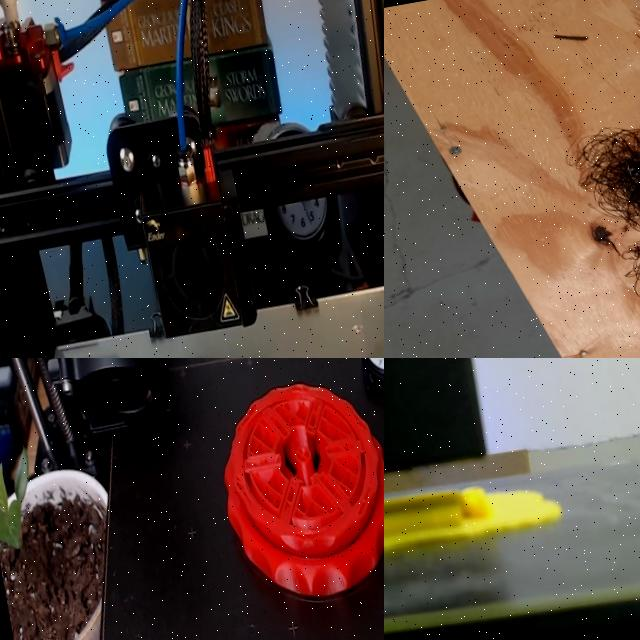spaghetti: (536, 93, 640, 355)
